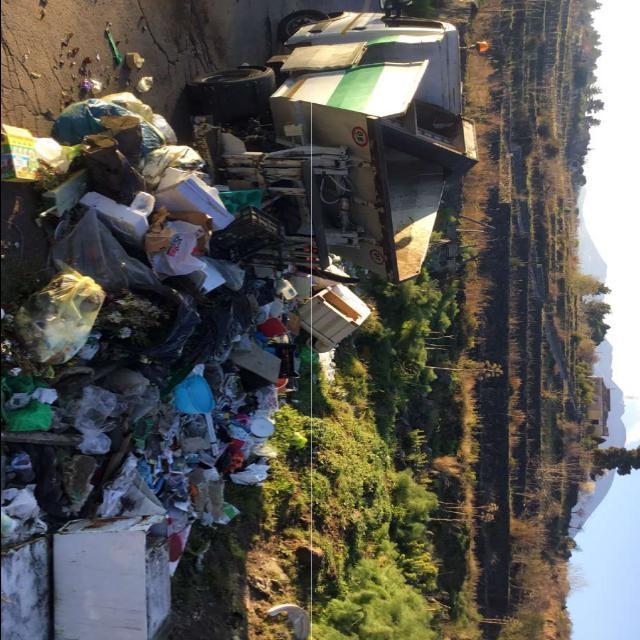Trashbag: (100, 278, 201, 366), (191, 286, 253, 374)
